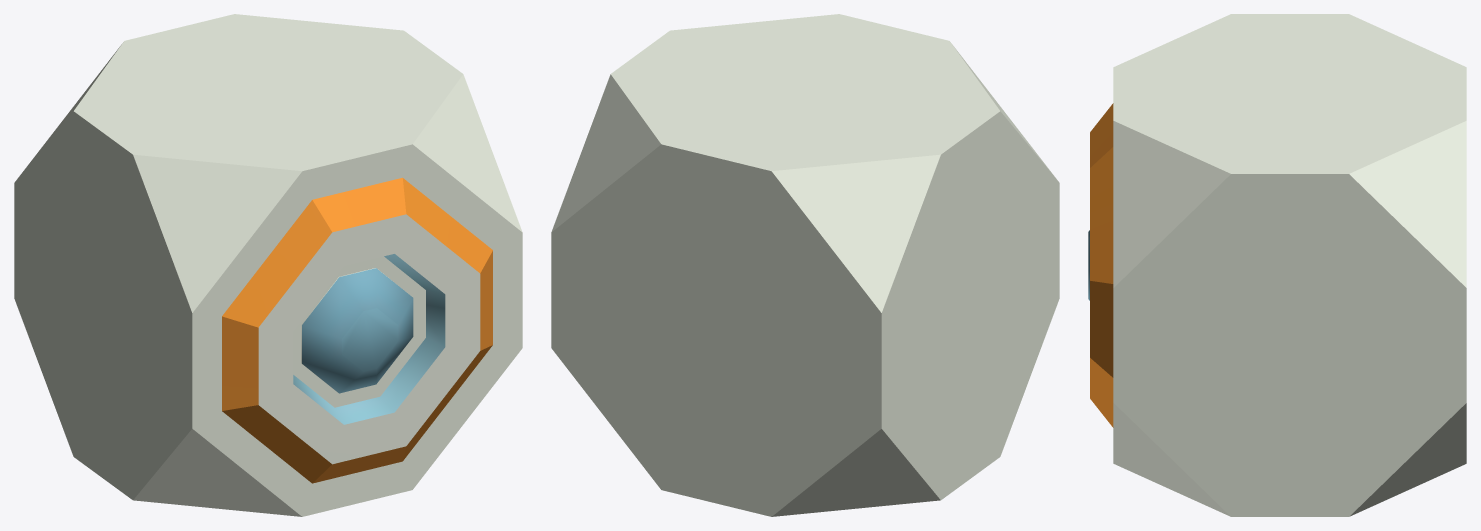
Rendered from Shield1.fbx.
The picture shows the model from 3 angles, left to right: view 1: azimuth 30°, elevation 25°; view 2: azimuth 150°, elevation 25°; view 3: azimuth 270°, elevation 25°; orthographic projection.
Parts seen in each view (by area): view 1: Shield 1x1; view 2: Shield 1x1; view 3: Shield 1x1.
Part boxes in pixels (<box>): Shield 1x1: <box>14,14,522,516</box>; Shield 1x1: <box>551,14,1059,516</box>; Shield 1x1: <box>1088,14,1466,516</box>.
Bounding box in the file's own units: 100 × 100 × 100.
